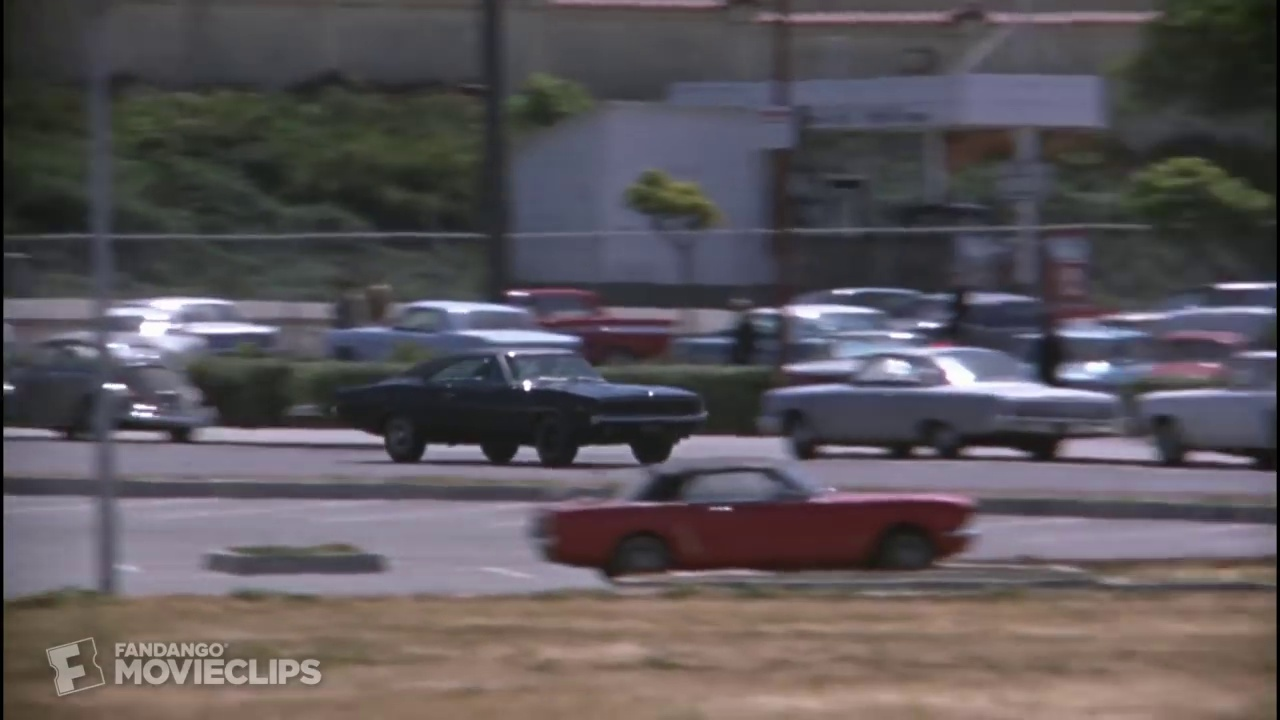car: (512, 452, 986, 592), (321, 341, 714, 474), (751, 340, 1124, 474), (1, 328, 229, 453), (306, 292, 603, 377), (1124, 350, 1280, 471), (78, 291, 290, 359)
person: (1021, 307, 1080, 394), (929, 279, 981, 349), (721, 301, 765, 364)
